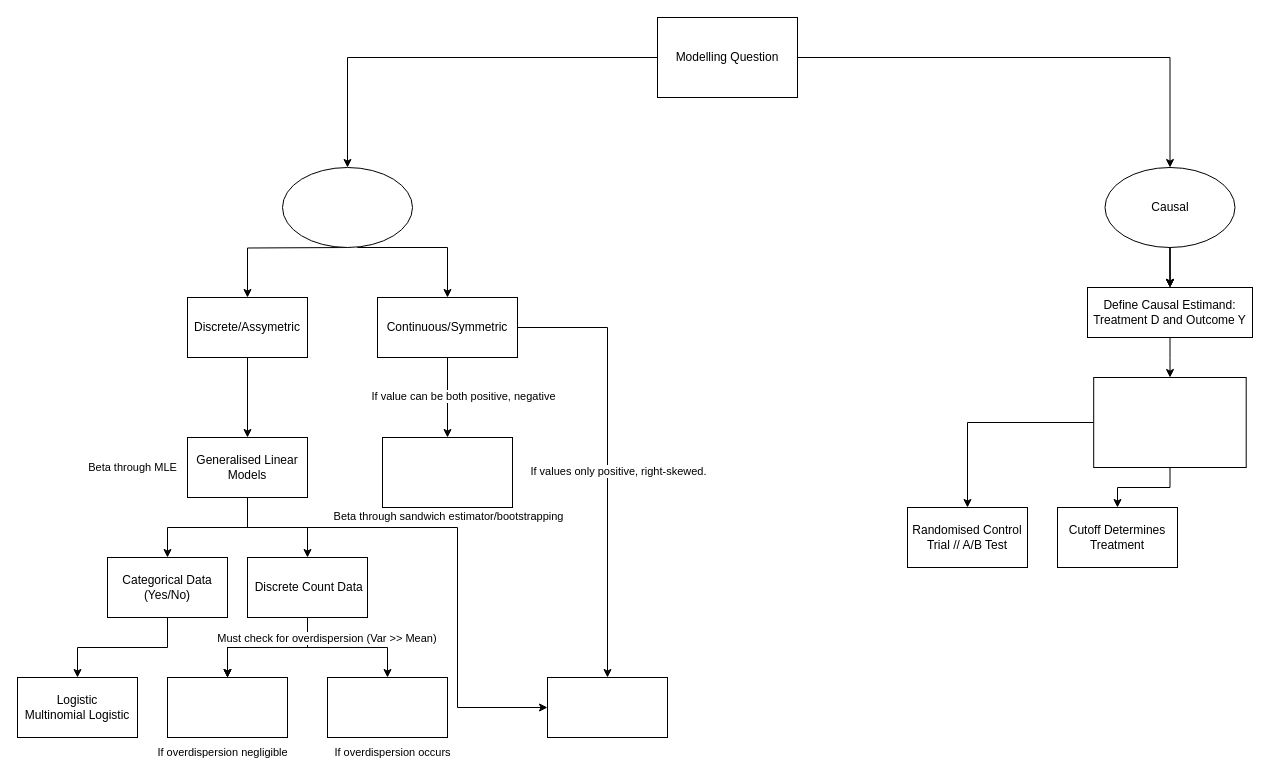
The diagram is 1270 pixels wide and 776 high, and some of its shapes have lost their labels. Each missing label, with the centre of its shape:
Determine assignment story: Why did one group get treated and the other not?: the point at 1169,422
Gamma + Log-Link: the point at 607,707
NBin + Log-Link: the point at 387,707
OLS//Gaussian Noise: the point at 447,472
Poisson + Log-Link: the point at 227,707
Predictive: the point at 347,207
